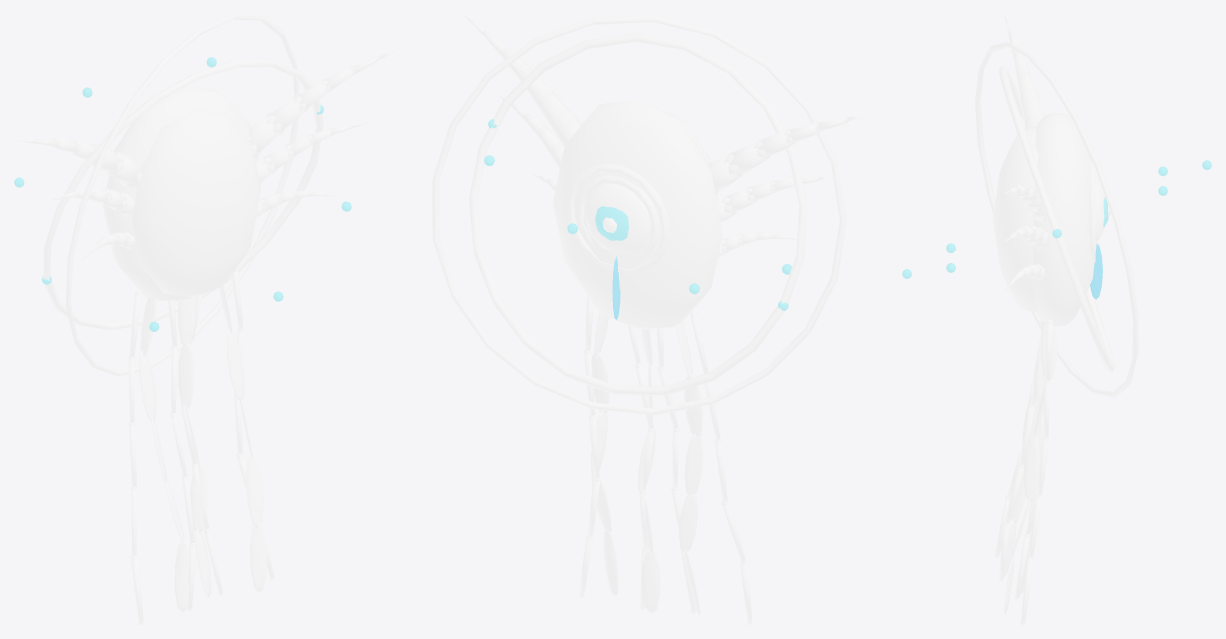
The model's file is seraph.glb.
3 renders of one model, left to right at view 1: azimuth 30°, elevation 25°; view 2: azimuth 150°, elevation 25°; view 3: azimuth 270°, elevation 25°, orthographic. The views are drawn at different scales.
Visible parts, largest first — view 1: black__Body, porcelain__Body, cloth__Tail, black__Tail, gold__Ring, gold__Ring2, glow__Ring; view 2: porcelain__Body, gold__Ring, gold__Ring2, cloth__Tail, black__Tail, gold__Body, black__Body, glow__Body; view 3: porcelain__Body, black__Body, gold__Ring2, black__Tail, cloth__Tail, gold__Ring, gold__Body, glow__Ring, glow_soft__Body.
Boxes of the visible parts, x1=… form: black__Body: x1=132, y1=108, x2=260, y2=296; porcelain__Body: x1=19, y1=47, x2=402, y2=301; cloth__Tail: x1=139, y1=285, x2=266, y2=613; black__Tail: x1=128, y1=267, x2=274, y2=624; gold__Ring: x1=43, y1=59, x2=323, y2=330; gold__Ring2: x1=65, y1=14, x2=299, y2=376; glow__Ring: x1=14, y1=57, x2=351, y2=331; porcelain__Body: x1=464, y1=15, x2=871, y2=329; gold__Ring: x1=468, y1=32, x2=807, y2=395; gold__Ring2: x1=432, y1=15, x2=846, y2=415; cloth__Tail: x1=590, y1=312, x2=703, y2=617; black__Tail: x1=579, y1=295, x2=752, y2=624; gold__Body: x1=567, y1=163, x2=669, y2=272; black__Body: x1=584, y1=112, x2=717, y2=254; glow__Body: x1=595, y1=206, x2=628, y2=240; porcelain__Body: x1=1004, y1=15, x2=1096, y2=326; black__Body: x1=993, y1=127, x2=1110, y2=312; gold__Ring2: x1=974, y1=41, x2=1138, y2=397; black__Tail: x1=995, y1=319, x2=1052, y2=624; cloth__Tail: x1=1004, y1=320, x2=1057, y2=615; gold__Ring: x1=998, y1=65, x2=1115, y2=372; gold__Body: x1=1089, y1=160, x2=1095, y2=262; glow__Ring: x1=902, y1=160, x2=1211, y2=278; glow_soft__Body: x1=1090, y1=243, x2=1102, y2=299.
Size of the model in its own units: 1.2 by 1.69 by 0.8733.
